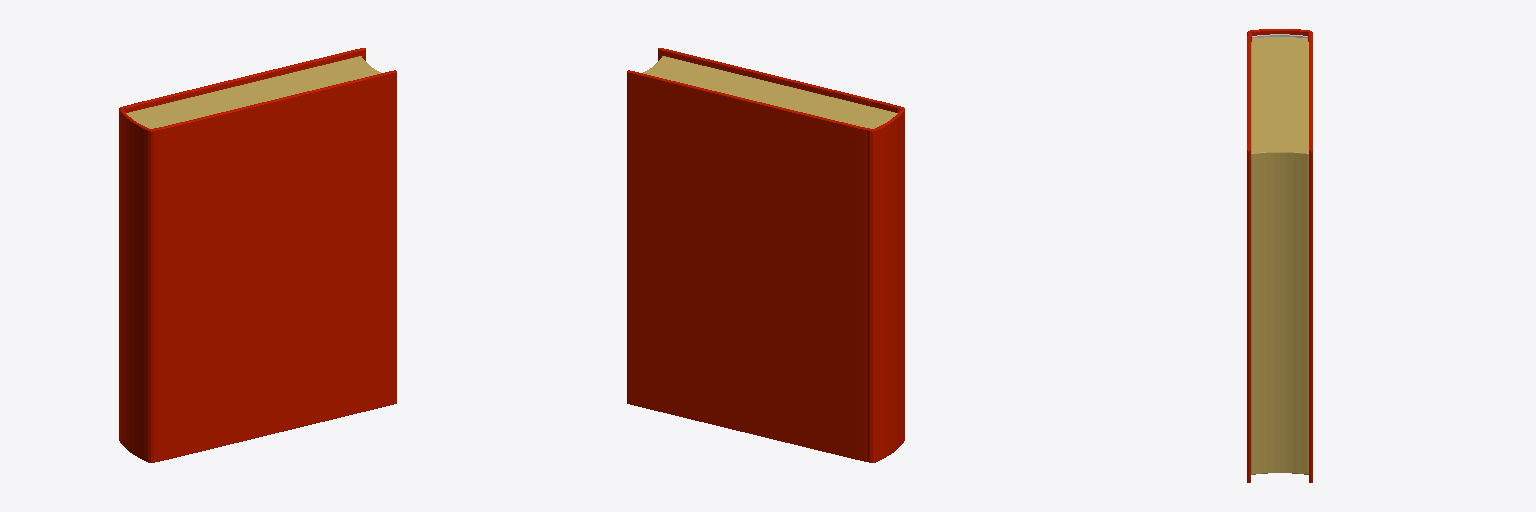
The model's file is orangebook.obj.
3 views of the same model, side by side, from view 1: azimuth 30°, elevation 25°; view 2: azimuth 150°, elevation 25°; view 3: azimuth 270°, elevation 25° (orthographic).
Parts seen in each view (by area): view 1: cover_cover; view 2: cover_cover; view 3: cover_cover.
Boxes of the visible parts, x1=… form: cover_cover: x1=119, y1=48, x2=396, y2=462; cover_cover: x1=627, y1=48, x2=904, y2=462; cover_cover: x1=1247, y1=29, x2=1312, y2=482.
Size of the model in its own units: 0.66 by 0.8355 by 0.1517.